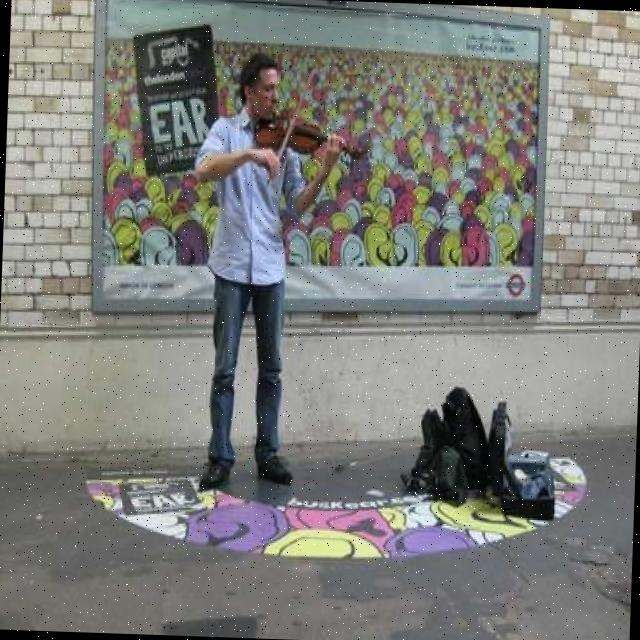violin: (252, 112, 370, 163)
